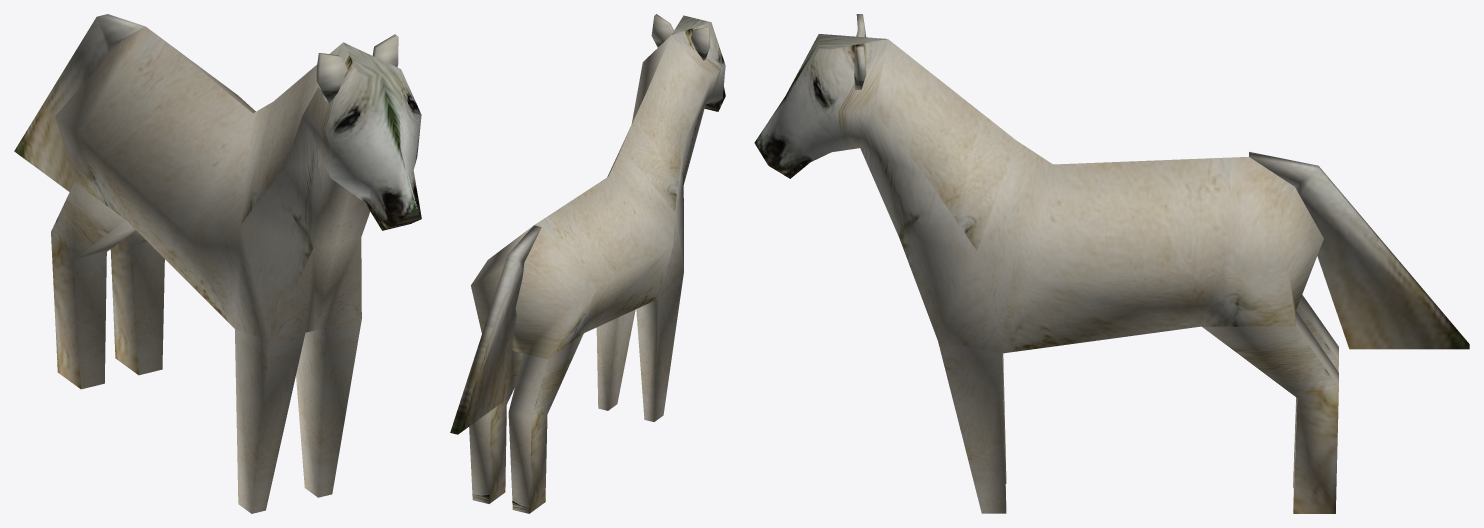
Rendered from horse.002.fbx.
3 views of the same model, side by side, from view 1: azimuth 30°, elevation 25°; view 2: azimuth 150°, elevation 25°; view 3: azimuth 270°, elevation 25° (orthographic). The views are drawn at different scales.
Visible parts, largest first — view 1: horse.005; view 2: horse.005; view 3: horse.005.
Part boxes in pixels (x1,y1,x2,y2): horse.005: (14, 14, 421, 513); horse.005: (450, 14, 725, 513); horse.005: (754, 14, 1469, 513).
Bounding box in the file's own units: 74.51 × 228 × 318.
